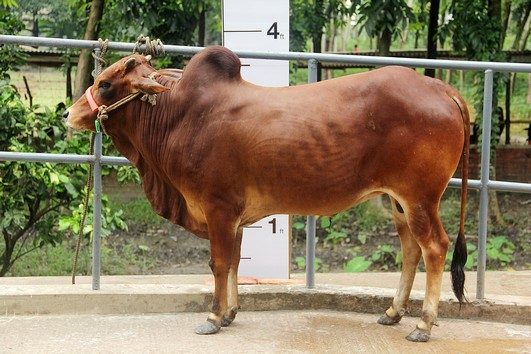cow: (55, 38, 473, 342)
